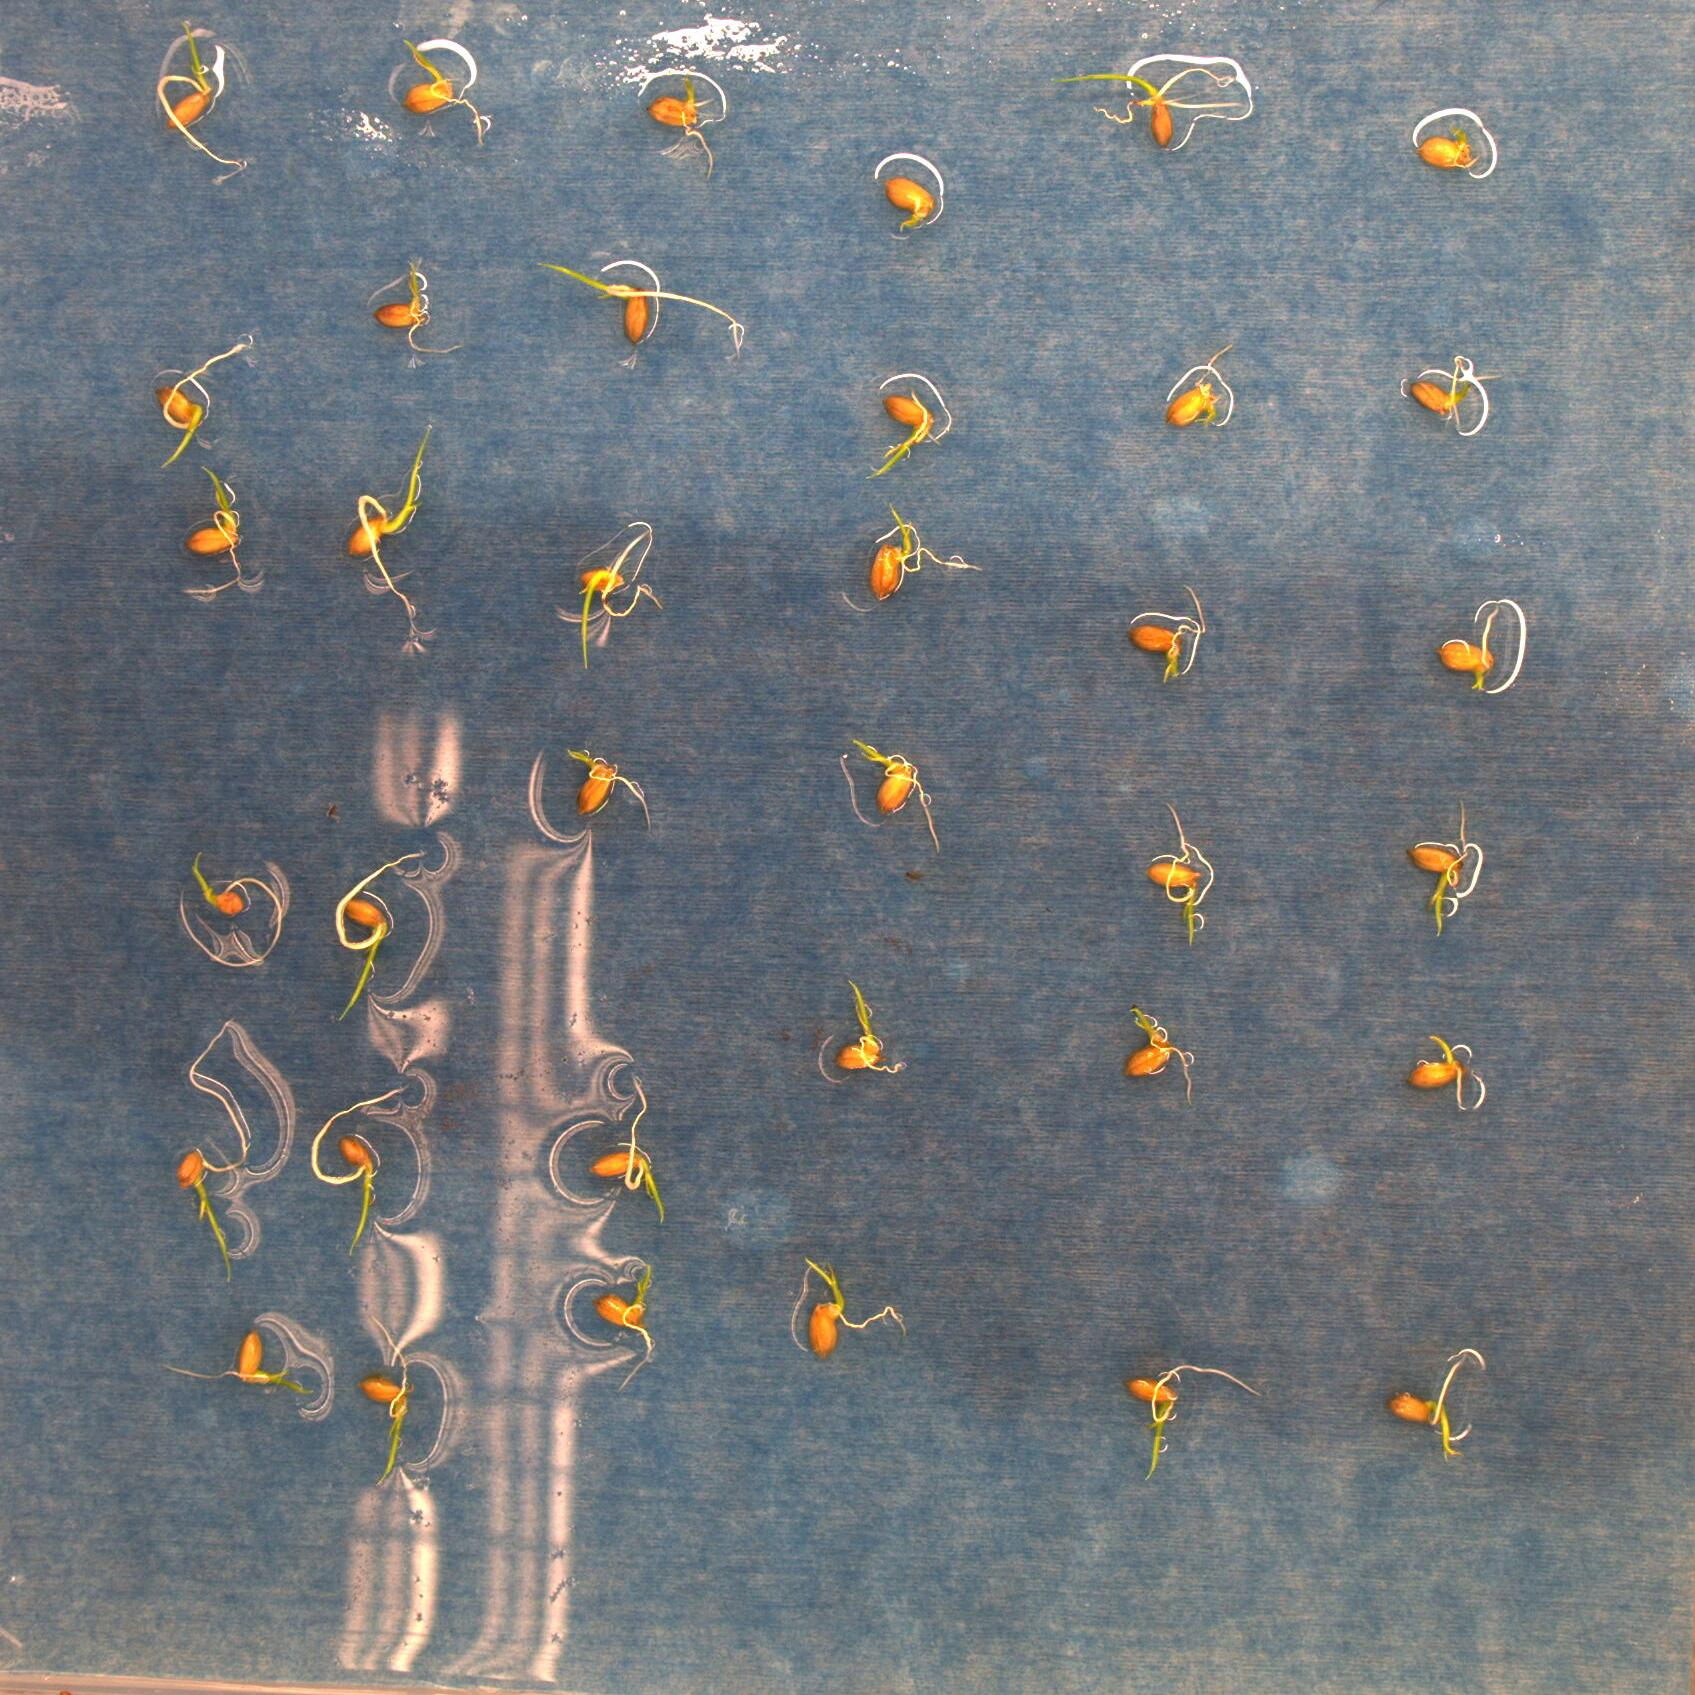not sprout: (1434, 598, 1499, 691), (1416, 123, 1479, 171), (883, 175, 938, 231)
sprout: (536, 262, 747, 369), (345, 424, 435, 635), (177, 1017, 247, 1285), (310, 1083, 408, 1257), (331, 849, 428, 1021), (1122, 1363, 1262, 1482), (840, 501, 983, 615), (1052, 67, 1236, 147), (157, 19, 248, 171), (175, 851, 282, 969), (581, 520, 664, 671), (155, 341, 253, 469), (590, 1069, 664, 1225), (802, 1256, 908, 1363), (161, 1329, 317, 1399), (852, 737, 942, 857), (357, 1313, 418, 1485), (399, 36, 489, 146), (366, 258, 464, 355), (866, 373, 955, 477), (1405, 798, 1470, 936), (1386, 1354, 1464, 1464), (1144, 801, 1201, 945), (646, 76, 725, 180), (1127, 584, 1208, 685), (591, 1262, 653, 1392), (185, 464, 244, 598), (1124, 1006, 1195, 1110), (567, 747, 652, 832), (834, 976, 902, 1077), (1411, 359, 1503, 430), (1161, 343, 1236, 430), (1405, 1034, 1471, 1111)
